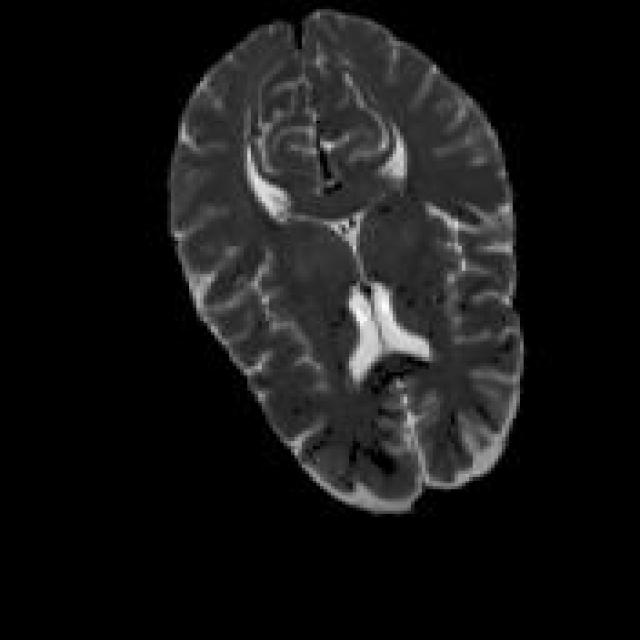parkinson: (164, 6, 524, 514)
